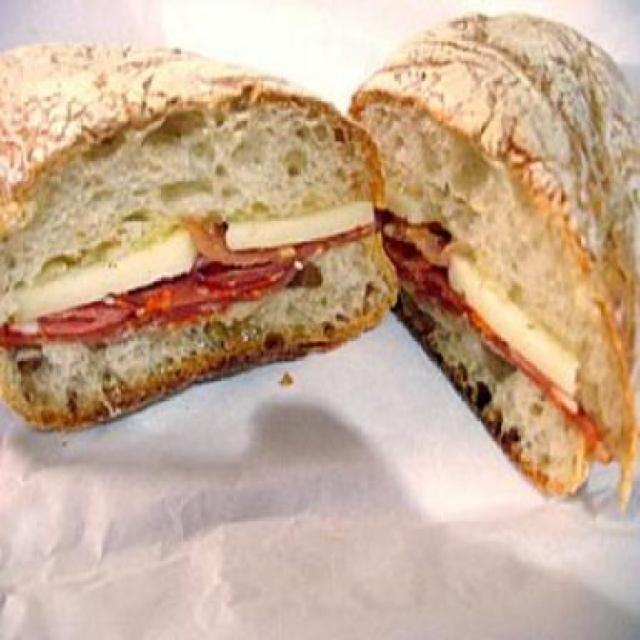Sandwich: (0, 35, 397, 428), (344, 6, 638, 503)
